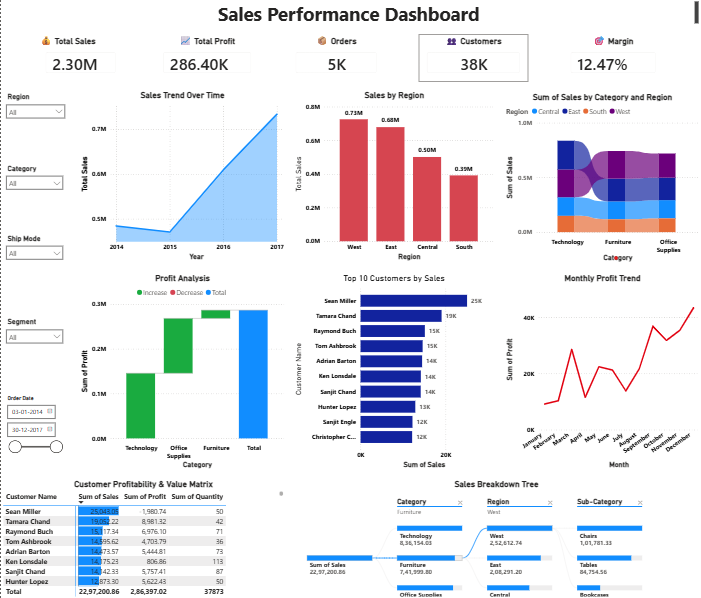

The page's visual inventory and layout, read from the dashboard file:
{"tool":"powerbi","page":{"name":"Page 1","canvas":[1400,1200],"ordinal":0},"visuals":[{"type":"cardVisual","title":"💰 Total Sales","fields":{"Data":["Orders.Total Sales"]},"box":[72,70,174,96],"z":0},{"type":"cardVisual","title":"📈 Total Profit","fields":{"Data":["Orders.Total Profit"]},"box":[308,70,210,96],"z":1000},{"type":"cardVisual","title":"📦 Orders","fields":{"Data":["Orders.Total Orders"]},"box":[572,70,196,96],"z":2000},{"type":"cardVisual","title":"🎯 Margin","fields":{"Data":["Orders.Profit Margin %"]},"box":[1122,70,204,96],"z":3000},{"type":"textbox","box":[0,0,1400,56.7],"z":4000},{"type":"slicer","fields":{"Values":["Orders.Region"]},"box":[0,182,138,78],"z":5000},{"type":"slicer","fields":{"Values":["Orders.Ship Mode"]},"box":[0,464,134,84],"z":6000},{"type":"slicer","fields":{"Values":["Orders.Order Date"]},"box":[0,788,132,156],"z":7000},{"type":"slicer","fields":{"Values":["Orders.Category"]},"box":[0,324,134,70],"z":8000},{"type":"slicer","fields":{"Values":["Orders.Segment"]},"box":[0,632,134,88],"z":9000},{"type":"cardVisual","title":"👥 Customers","fields":{"Data":["Sum(Orders.Quantity)"]},"box":[836,70,220,96],"z":10000},{"type":"areaChart","title":"Sales Trend Over Time","fields":{"Category":["Orders.Order Date.Variation.Date Hierarchy.Year","Orders.Order Date.Variation.Date Hierarchy.Month"],"Y":["Orders.Total Sales"]},"box":[156,182,416,346],"z":11000},{"type":"clusteredColumnChart","title":"Sales by Region","fields":{"Category":["Orders.Region"],"Y":["Orders.Total Sales"]},"box":[582,182,408,346],"z":12000},{"type":"ribbonChart","fields":{"Category":["Orders.Category"],"Series":["Orders.Region"],"Y":["Sum(Orders.Sales)"]},"box":[1004,184,396,346],"z":13000},{"type":"waterfallChart","title":"Profit Analysis","fields":{"Category":["Orders.Category"],"Y":["Sum(Orders.Profit)"]},"box":[156,548,416,396],"z":14000},{"type":"clusteredBarChart","title":"Top 10 Customers by Sales","fields":{"Category":["Orders.Customer Name"],"Y":["Sum(Orders.Sales)"]},"box":[582,548,408,396],"z":15000},{"type":"lineChart","title":"Monthly Profit Trend","fields":{"Category":["Orders.Order Date.Variation.Date Hierarchy.Month"],"Y":["Sum(Orders.Profit)"]},"box":[1004,548,396,396],"z":16000},{"type":"pivotTable","title":"Customer Profitability & Value Matrix","fields":{"Rows":["Orders.Customer Name"],"Values":["Sum(Orders.Sales)","Sum(Orders.Profit)","Sum(Orders.Quantity)"]},"box":[0,960,570,240],"z":16001},{"type":"decompositionTreeVisual","title":"Sales Breakdown Tree","fields":{"Analyze":["Sum(Orders.Sales)"],"ExplainBy":["Orders.Category","Orders.Region","Orders.Sub-Category"]},"box":[582.9,960,817.1,240],"z":16003}]}

Visuals, with their boxes in screenshot pixels (x1, y1, x2, y2), scaled from the page's 1400x1200 canvas onto the 701x598 screenshot:
"💰 Total Sales" cardVisual: <box>36,35,123,83</box>
"📈 Total Profit" cardVisual: <box>154,35,259,83</box>
"📦 Orders" cardVisual: <box>286,35,385,83</box>
"🎯 Margin" cardVisual: <box>562,35,664,83</box>
textbox: <box>0,0,700,28</box>
slicer - Orders.Region: <box>0,91,69,130</box>
slicer - Orders.Ship Mode: <box>0,231,67,273</box>
slicer - Orders.Order Date: <box>0,393,66,470</box>
slicer - Orders.Category: <box>0,161,67,196</box>
slicer - Orders.Segment: <box>0,315,67,359</box>
"👥 Customers" cardVisual: <box>419,35,529,83</box>
"Sales Trend Over Time" areaChart: <box>78,91,286,263</box>
"Sales by Region" clusteredColumnChart: <box>291,91,496,263</box>
ribbonChart - Orders.Category x Orders.Region: <box>503,92,700,264</box>
"Profit Analysis" waterfallChart: <box>78,273,286,470</box>
"Top 10 Customers by Sales" clusteredBarChart: <box>291,273,496,470</box>
"Monthly Profit Trend" lineChart: <box>503,273,700,470</box>
"Customer Profitability & Value Matrix" pivotTable: <box>0,478,285,597</box>
"Sales Breakdown Tree" decompositionTreeVisual: <box>292,478,700,597</box>
